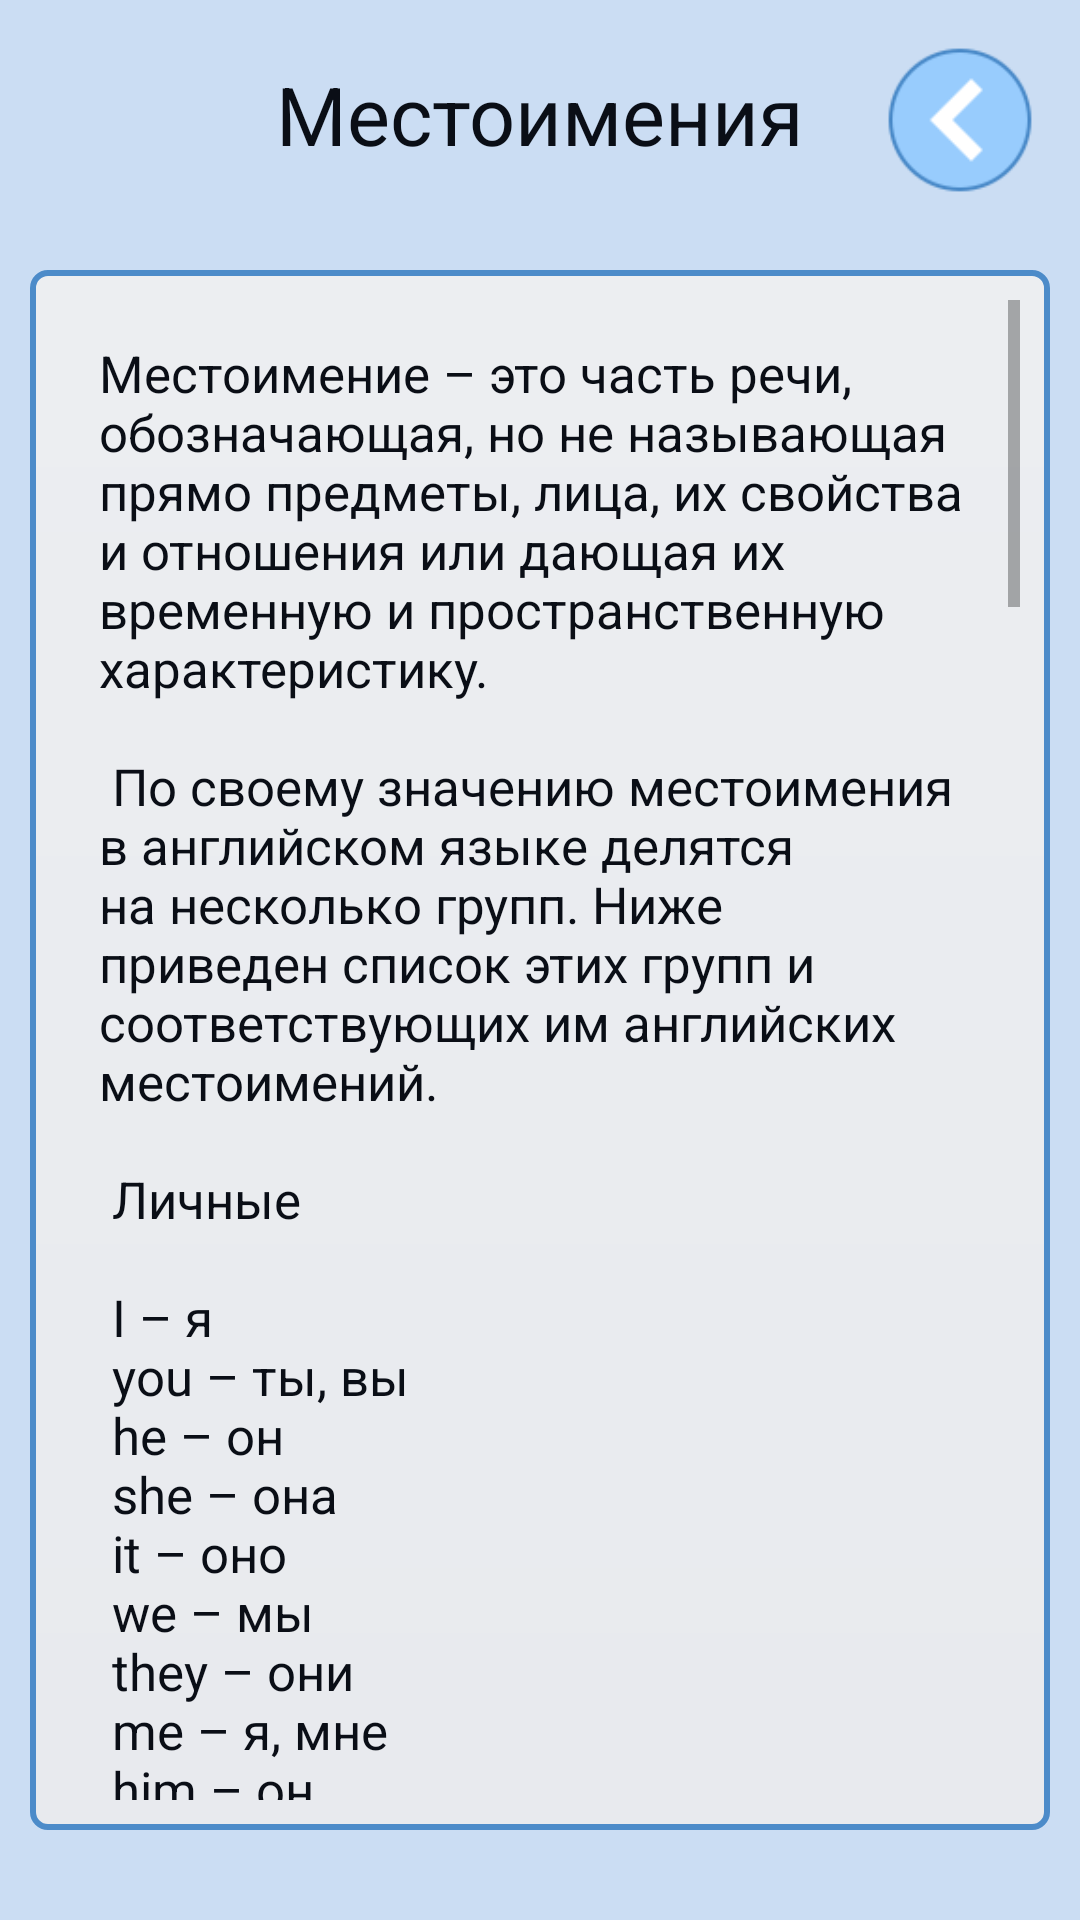

Point at icon controls on the screen. Image size 1080 × 1920, points as point (x, y).
arrow menu: point (960, 120)
